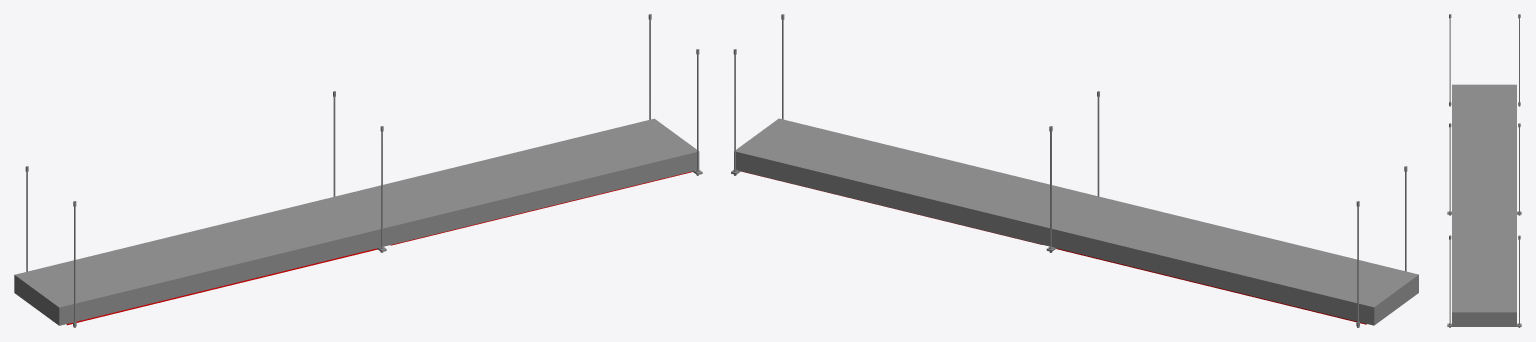
Rendered from light.FBX.
3 renders of one model, left to right at view 1: azimuth 30°, elevation 25°; view 2: azimuth 150°, elevation 25°; view 3: azimuth 270°, elevation 25°, orthographic. The views are drawn at different scales.
Visible parts, largest first — view 1: Box30708; view 2: Box30708; view 3: Box30708.
Boxes of the visible parts, box(x1,y1,x2,y2) form: Box30708: box(14, 14, 702, 327); Box30708: box(731, 14, 1418, 327); Box30708: box(1447, 14, 1521, 327).
Size of the model in its own units: 314 by 59.07 by 43.41.
